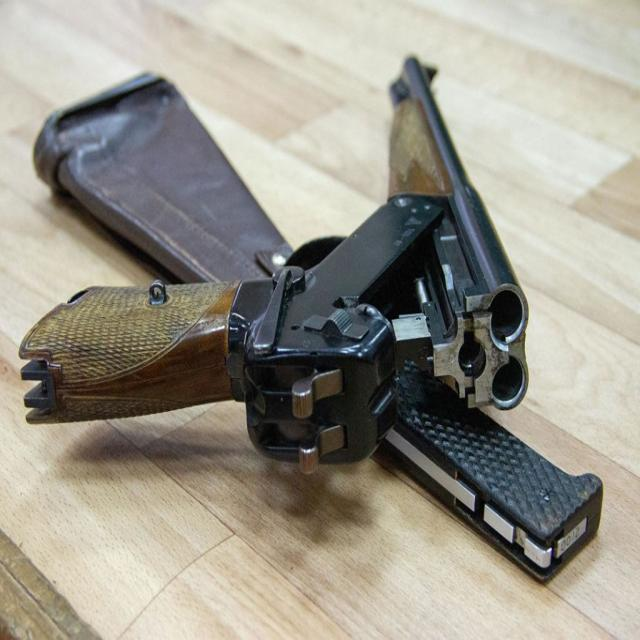firearm: (23, 58, 528, 469)
